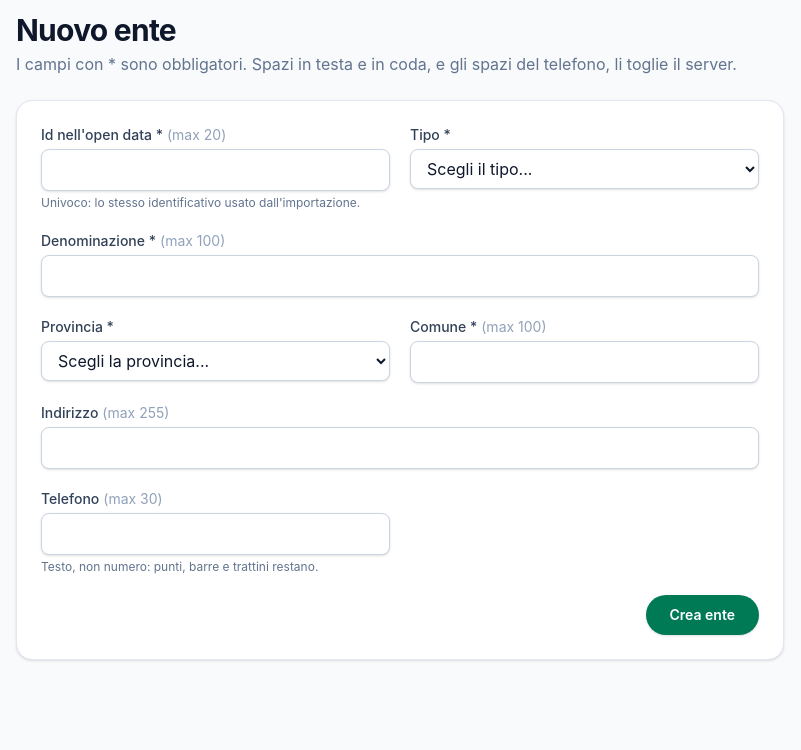
Test: NuovoEntePage › il form vuoto non parte: segnala i campi obbligatori senza chiamare il server
Click the button with test id "salva-ente": {"x": 702, "y": 615} [646,595,759,635]
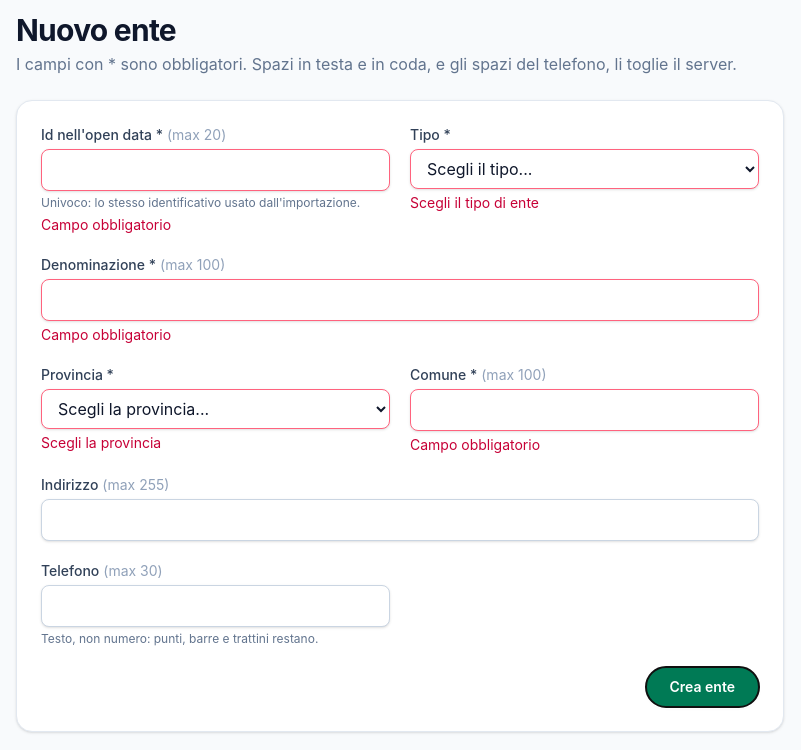
Check: the text with test id "errore-idSorgente" is shown, box [41,216,171,233]
Check: the text with test id "errore-denominazione" is shown, box [41,326,171,343]
Check: the text "Scegli il tipo di ente" is shown, box [410,194,539,211]
